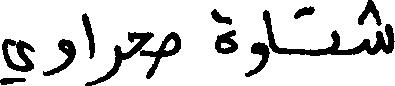X: (296, 1, 338, 60), (360, 0, 394, 59), (0, 34, 32, 85), (246, 5, 265, 81), (45, 34, 73, 80), (128, 27, 151, 83), (212, 4, 235, 58), (95, 40, 120, 85), (159, 27, 179, 66), (83, 8, 93, 85), (267, 6, 274, 66)
